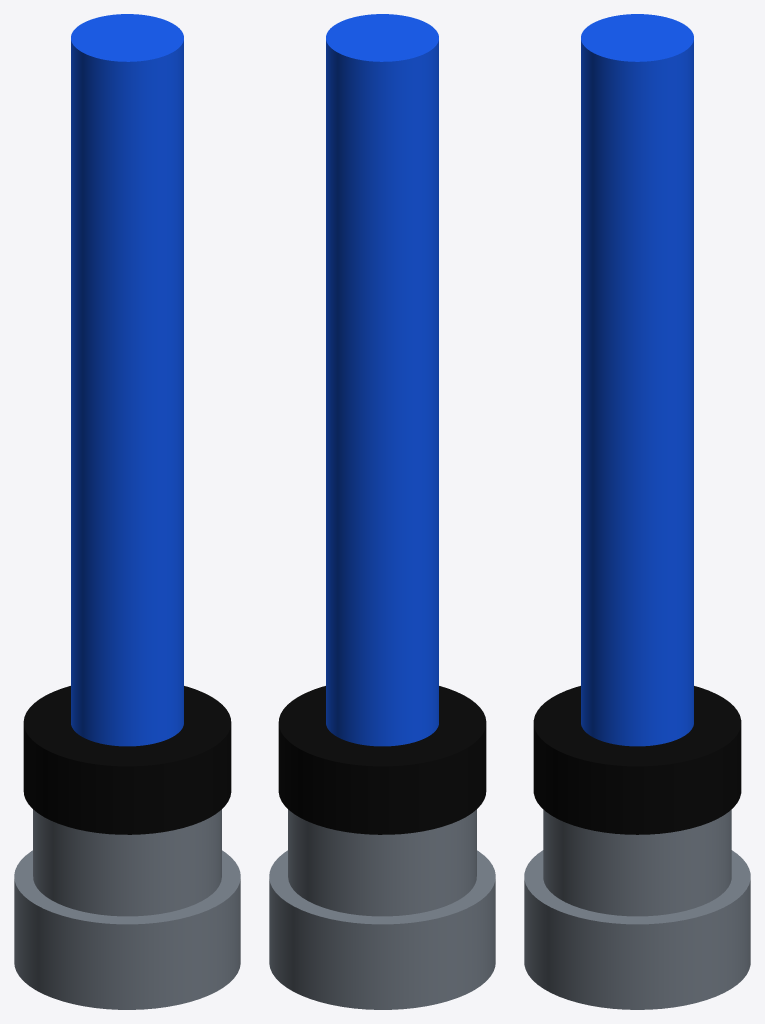
Rendered from push_in_fitting.glb.
The picture shows the model from 3 angles, left to right: view 1: azimuth 30°, elevation 25°; view 2: azimuth 150°, elevation 25°; view 3: azimuth 270°, elevation 25°; orthographic projection.
Visible parts, largest first — view 1: fitting; view 2: fitting; view 3: fitting.
Boxes of the visible parts, x1,y1,x2,y2 form: fitting: (14, 14, 240, 1009); fitting: (269, 14, 495, 1009); fitting: (524, 14, 750, 1009).
Size of the model in its own units: 0.012 by 0.054 by 0.012.
